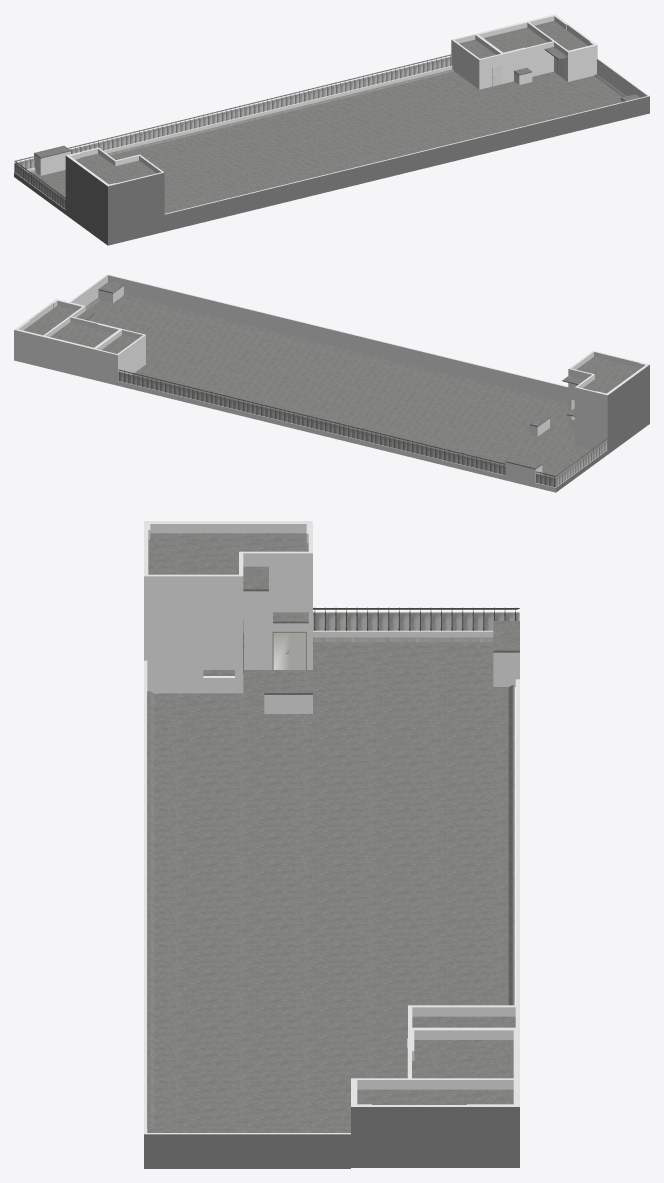
The picture shows the model from 3 angles, top to bottom: view 1: azimuth 30°, elevation 25°; view 2: azimuth 150°, elevation 25°; view 3: azimuth 270°, elevation 25°; orthographic projection. The views are drawn at different scales.
Visible parts, largest first — view 1: 楼板.008, 外墙灰.003, 建筑墙, 栏杆, 外墙灰白; view 2: 楼板.008, 建筑墙, 外墙灰白, 栏杆, 外墙灰.003; view 3: 楼板.008, 建筑墙, 外墙灰.003, 外墙灰白, 栏杆, 防火门双扇.001.
Boxes of the visible parts, bbox=[...] form: 楼板.008: bbox=[28, 21, 640, 213]; 外墙灰.003: bbox=[14, 96, 649, 245]; 建筑墙: bbox=[14, 14, 624, 209]; 栏杆: bbox=[14, 54, 451, 209]; 外墙灰白: bbox=[66, 15, 649, 214]; 楼板.008: bbox=[23, 281, 640, 478]; 建筑墙: bbox=[14, 286, 607, 492]; 外墙灰白: bbox=[16, 274, 649, 441]; 栏杆: bbox=[118, 369, 607, 487]; 外墙灰.003: bbox=[556, 365, 649, 492]; 楼板.008: bbox=[147, 533, 519, 1132]; 建筑墙: bbox=[148, 524, 519, 1106]; 外墙灰.003: bbox=[144, 1107, 519, 1168]; 外墙灰白: bbox=[144, 521, 513, 1134]; 栏杆: bbox=[313, 607, 519, 630]; 防火门双扇.001: bbox=[243, 619, 306, 673].
Bounding box in the file's own units: 59.3 × 6.2 × 17.8.
Materials: 8 (2 with a texture image).
